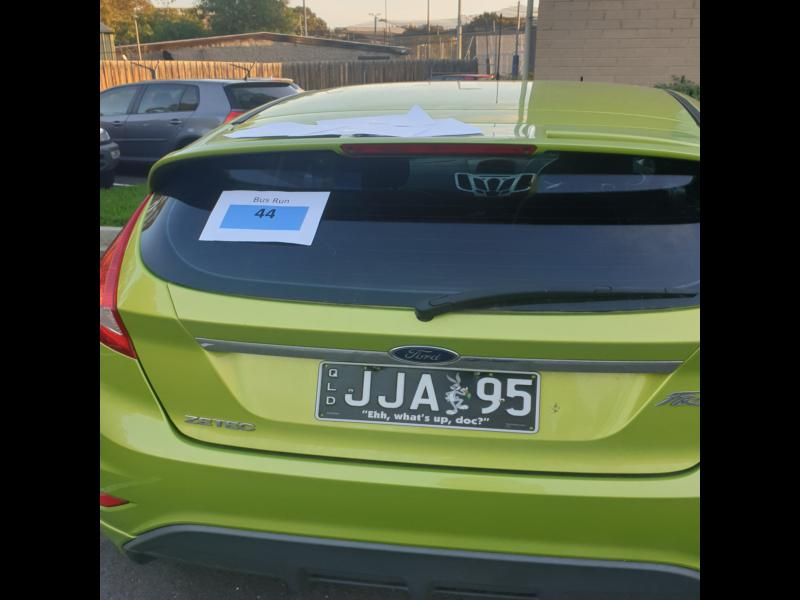BusRun: (221, 202, 307, 234)
PlateNo: (317, 359, 541, 430)
